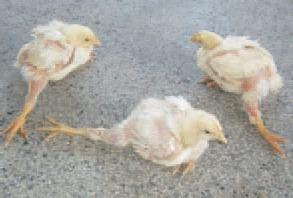AbNormal: (186, 24, 293, 157), (45, 101, 229, 168), (3, 16, 92, 147)
